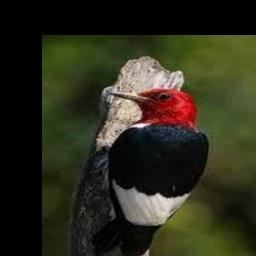Woodpecker: (92, 89, 213, 256)
